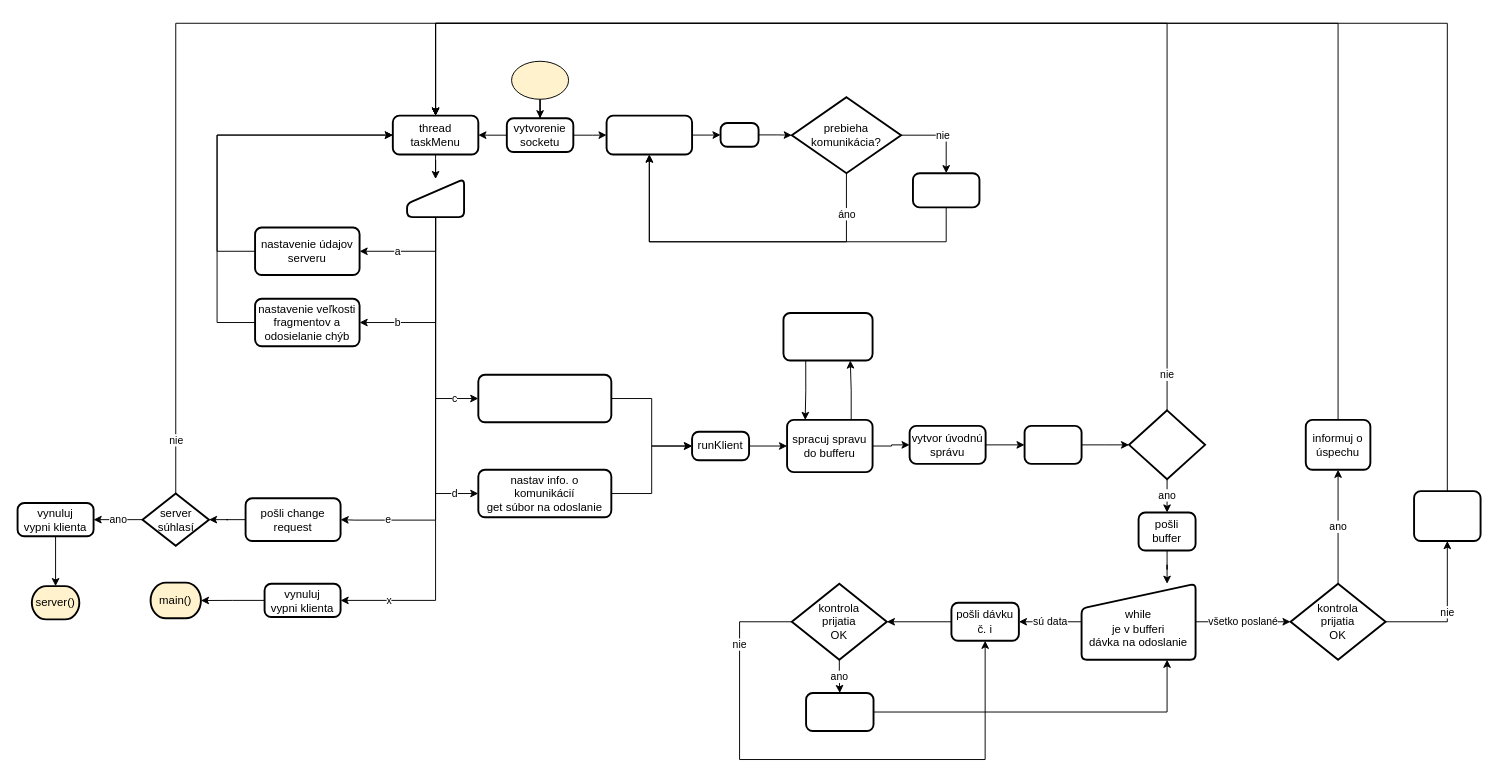
Image size: 1497x784. Some labels were removed from this diagram. Each missing label, with the centre of its shape:
i++: (839,712)
informuj o neúspechu: (1447,516)
input: (435,198)
klient(): (540,79)
nadviaž spojenie: (1052,444)
nastav info. o komunikácií get správu na odoslanie: (544,398)
pošli keepalive: (946,190)
sleep: (739,134)
spojenie OK: (1167,444)
thread keepAlive: (649,134)
vytvor fragmenty aj s hlavičkami: (827,336)
